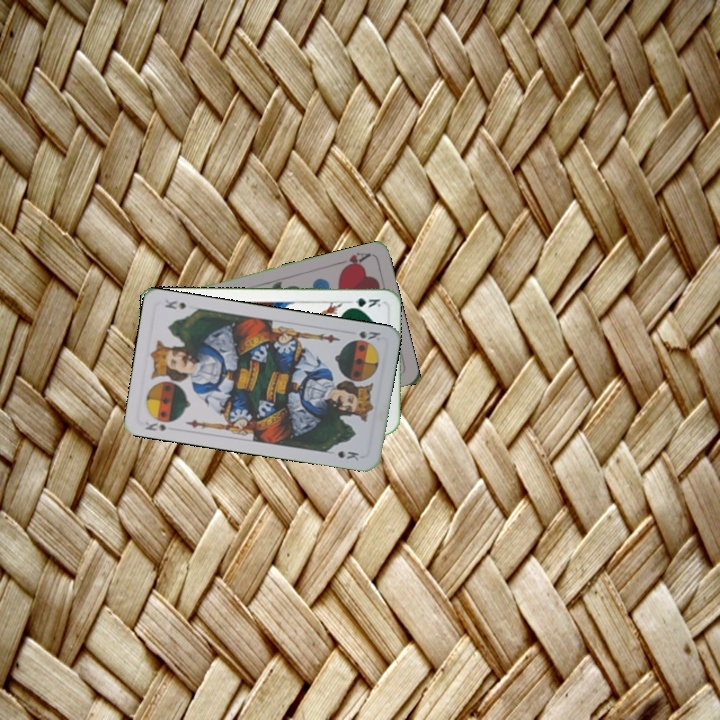GK: (344, 294, 383, 311)
HA: (334, 248, 374, 273)
SK: (141, 413, 178, 434), (355, 327, 384, 344)
